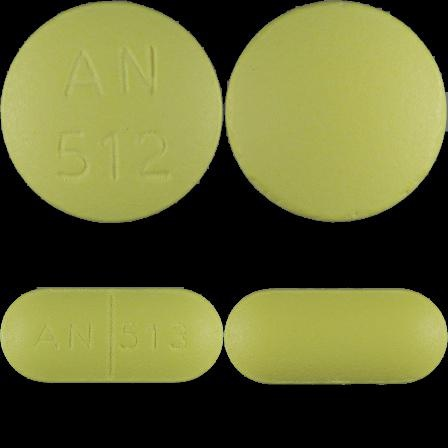65162-512: (0, 0, 224, 224)
